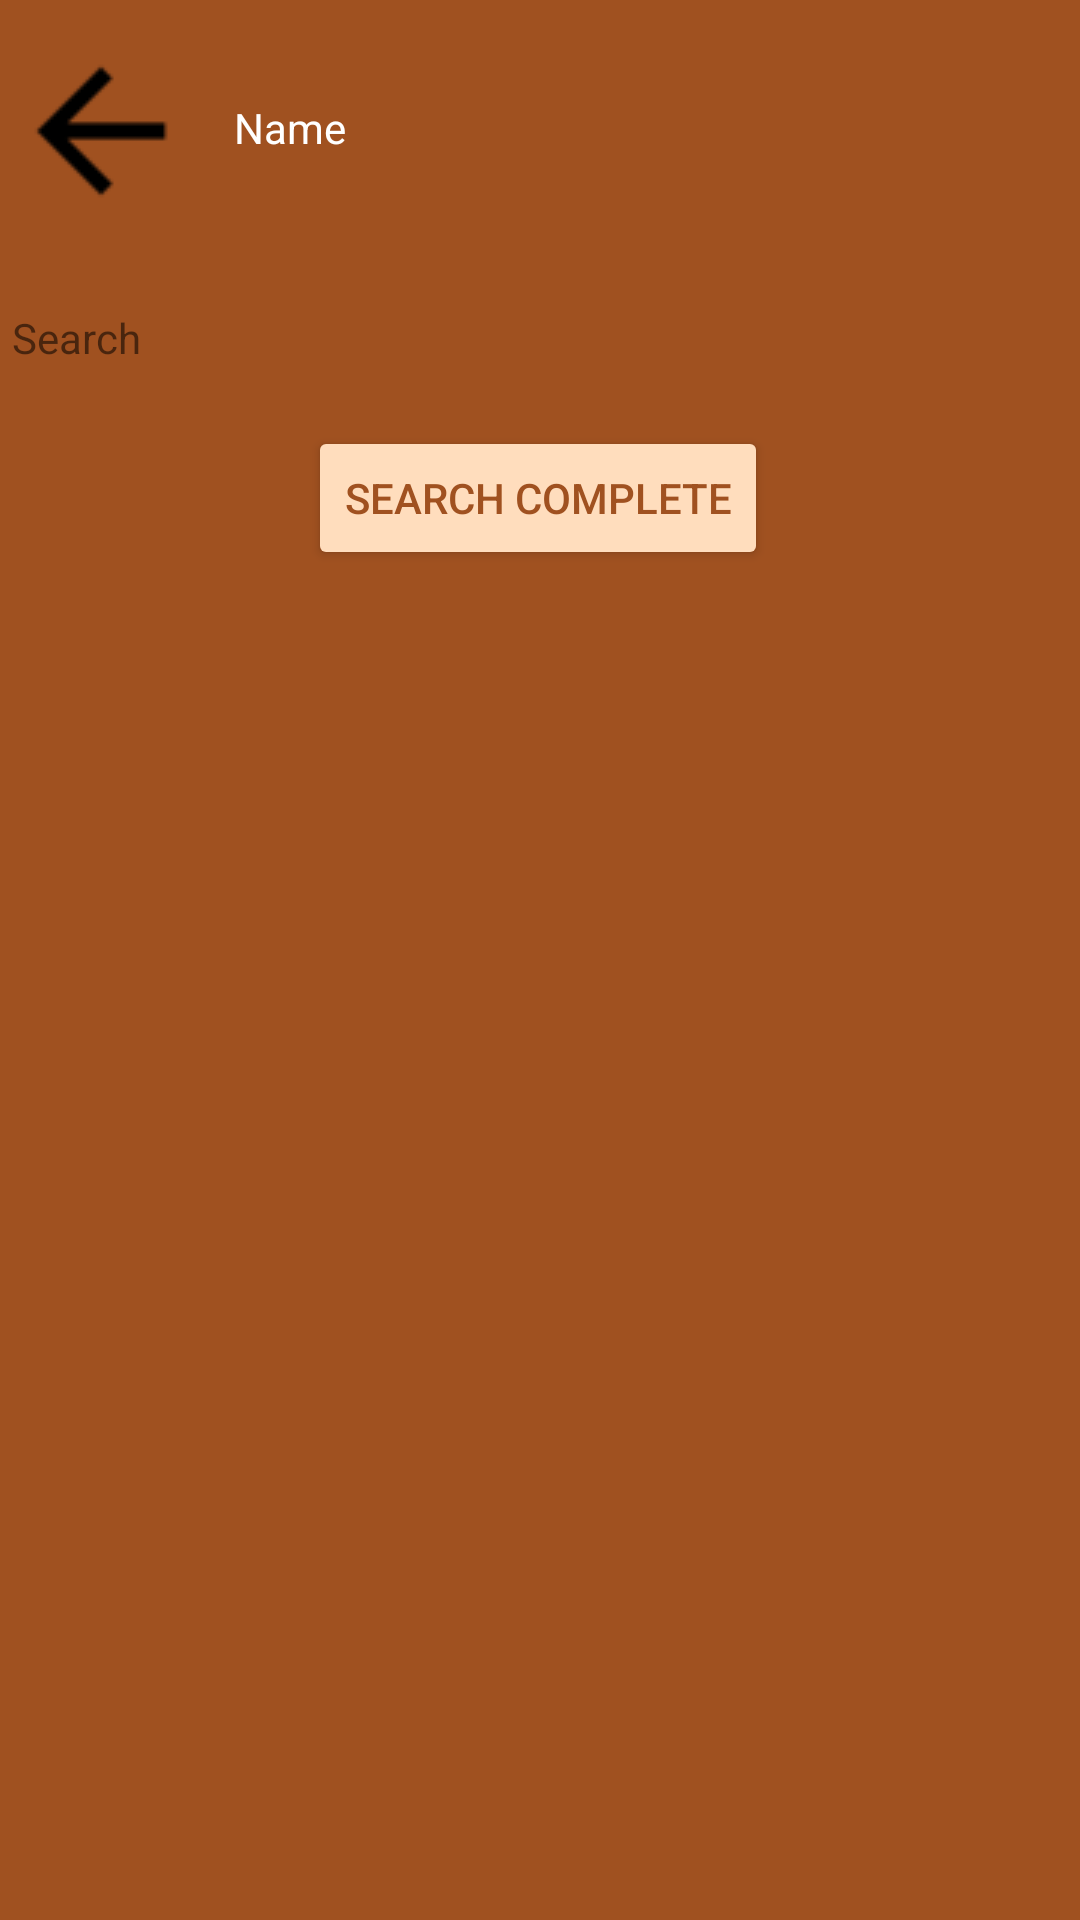

Where icons sit on this 1080 x 1920 app screen, as Rect(x1, y1, x2, y2):
back: Rect(37, 67, 167, 195)
